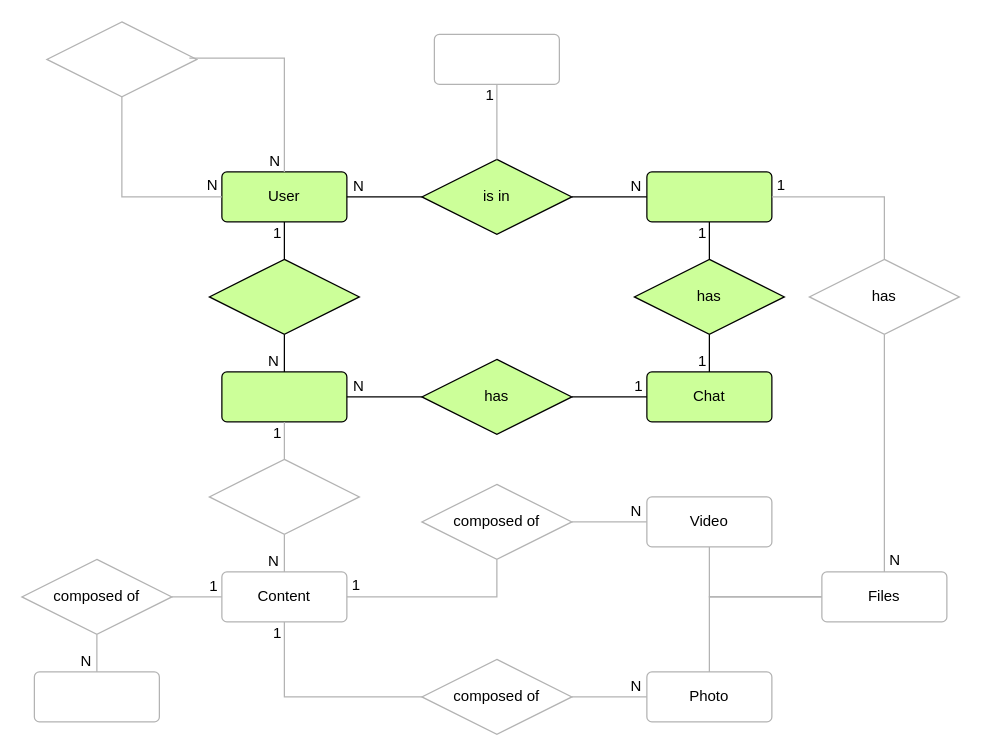
This 981x756 diagram has some shape labels left out. The shapes that lost their labels are listed below. From the top down, each one's centre as x and y in pixels, then its label:
At point (121, 59): "has contact".
At point (496, 58): "Role".
At point (709, 196): "Group".
At point (283, 296): "send".
At point (284, 396): "Message".
At point (283, 496): "contain".
At point (96, 696): "Text".
